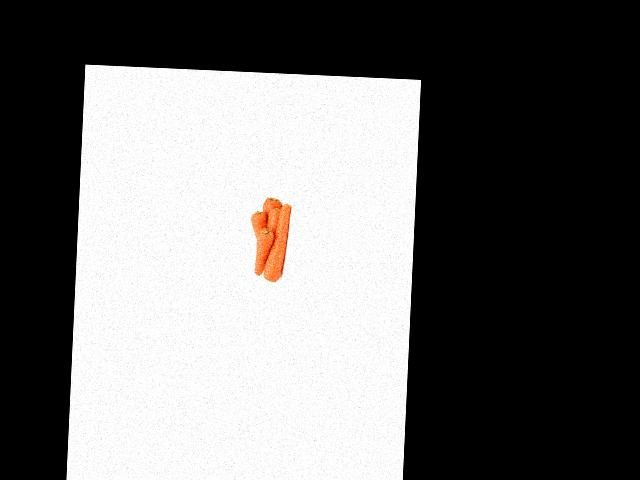carrot: (251, 209, 269, 243)
